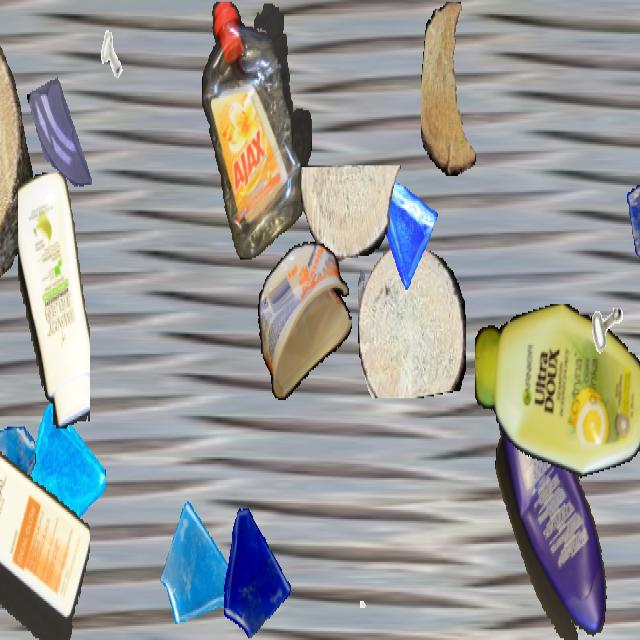glass: (12, 400, 106, 567), (160, 496, 240, 638), (215, 500, 293, 638), (368, 167, 438, 292), (26, 68, 96, 192), (0, 427, 36, 533), (627, 171, 640, 270)
metal: (571, 254, 631, 361), (93, 21, 131, 89), (335, 553, 373, 620), (631, 430, 640, 530)
plastic: (492, 386, 612, 638), (475, 304, 640, 482), (201, 2, 311, 258), (18, 172, 90, 428), (0, 439, 90, 638), (258, 242, 352, 402)
wood: (358, 242, 466, 398), (421, 2, 481, 176), (301, 166, 401, 262), (0, 2, 32, 300)
